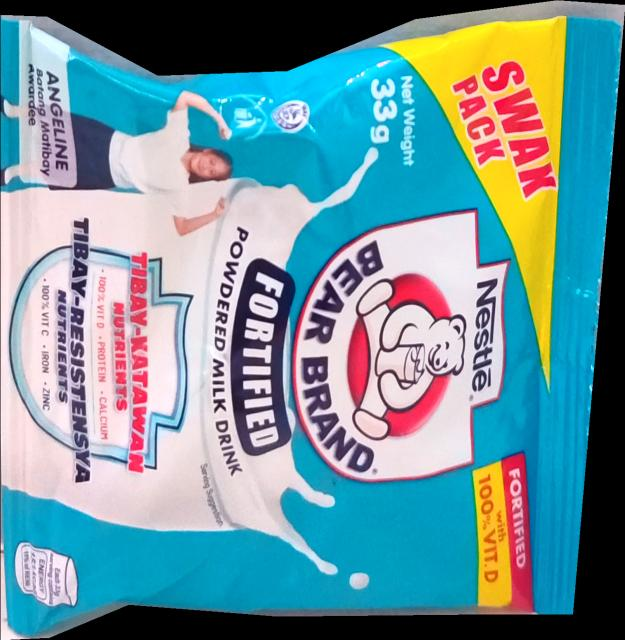bear brand: (1, 0, 625, 640)
